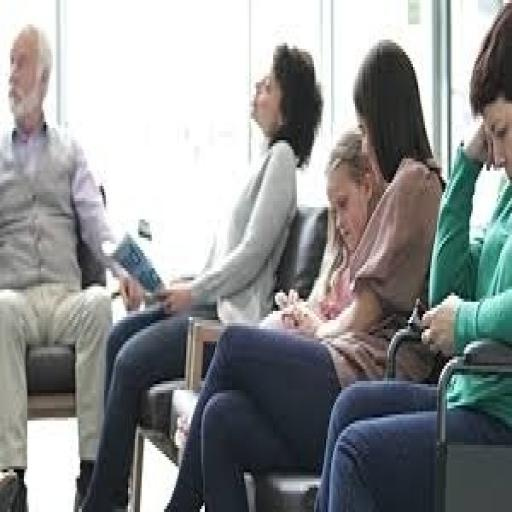sitting: (162, 37, 446, 509), (77, 40, 324, 509), (312, 3, 510, 509), (0, 21, 138, 509)
